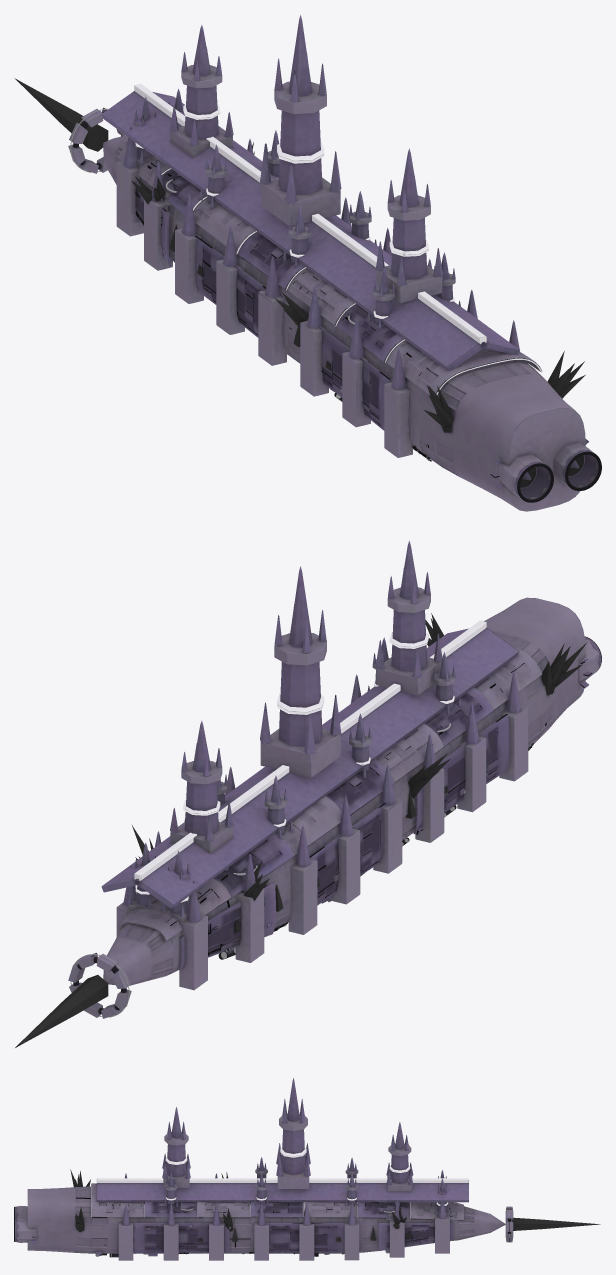
Rendered from angel_lance_hero.glb.
The picture shows the model from 3 angles, top to bottom: view 1: azimuth 30°, elevation 25°; view 2: azimuth 150°, elevation 25°; view 3: azimuth 270°, elevation 25°; orthographic projection. The views are drawn at different scales.
Parts seen in each view (by area): view 1: HullBaked; view 2: HullBaked; view 3: HullBaked.
Boxes of the visible parts, x1,y1,x2,y2 form: HullBaked: [14, 15, 601, 511]; HullBaked: [15, 540, 601, 1047]; HullBaked: [14, 1078, 600, 1260].
Bounding box in the file's own units: 28.14 × 49.59 × 155.
1 material, 1 textured.
